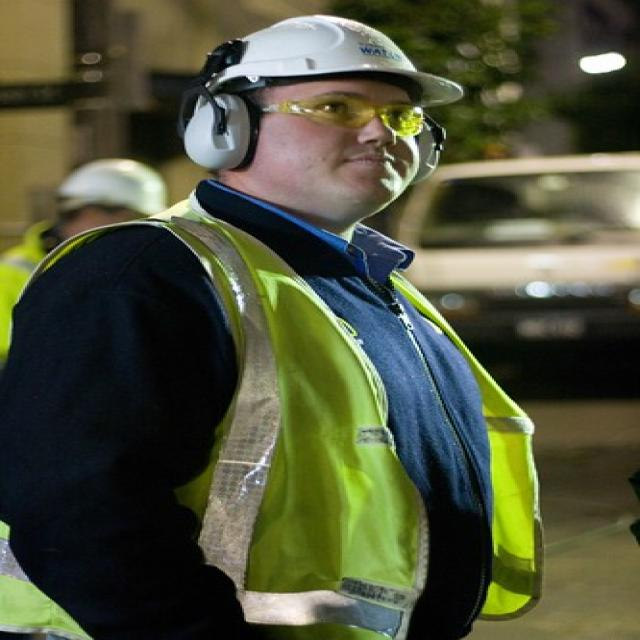Reflective-Jacket: (0, 178, 552, 640)
Safety-Helmet: (167, 8, 467, 130)
